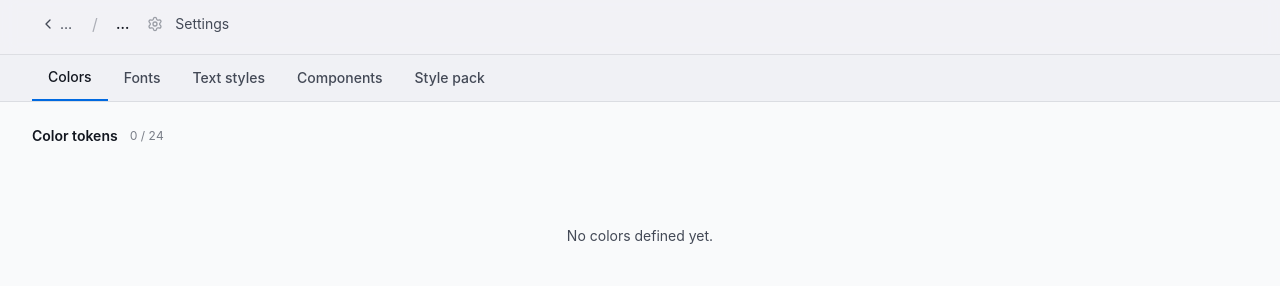
Test case: FolderSettings page › shows the Components tab empty state when no components exist
Click the tab "Components": (340,78) 281,55 -> 398,101
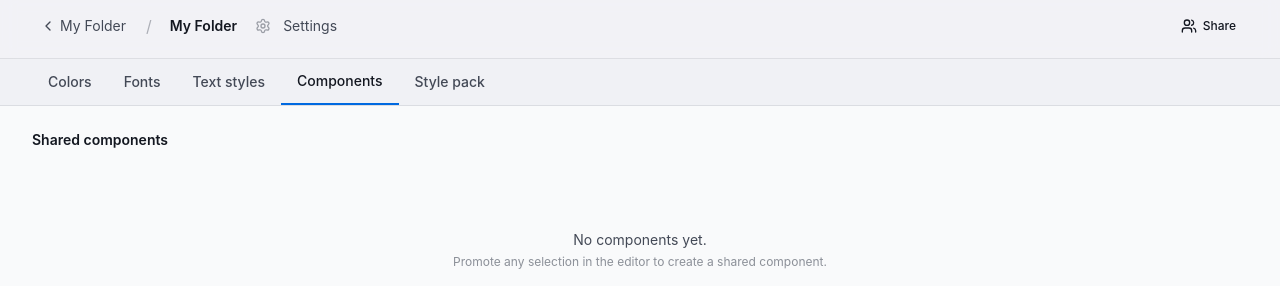
Check: the text "No components yet." is shown, box 573,230 -> 707,250
Check: the text "Promote any selection in the editor" is shown, box 453,254 -> 827,269
